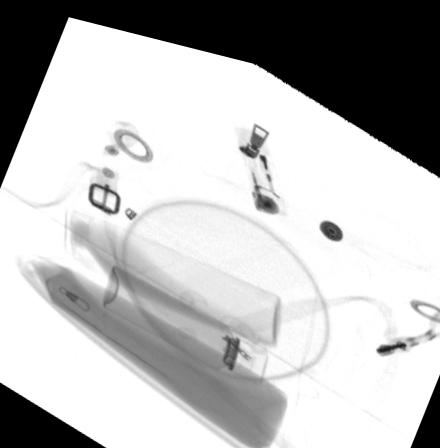Lighter: (233, 113, 288, 198)
Sprayer: (101, 257, 269, 372)
